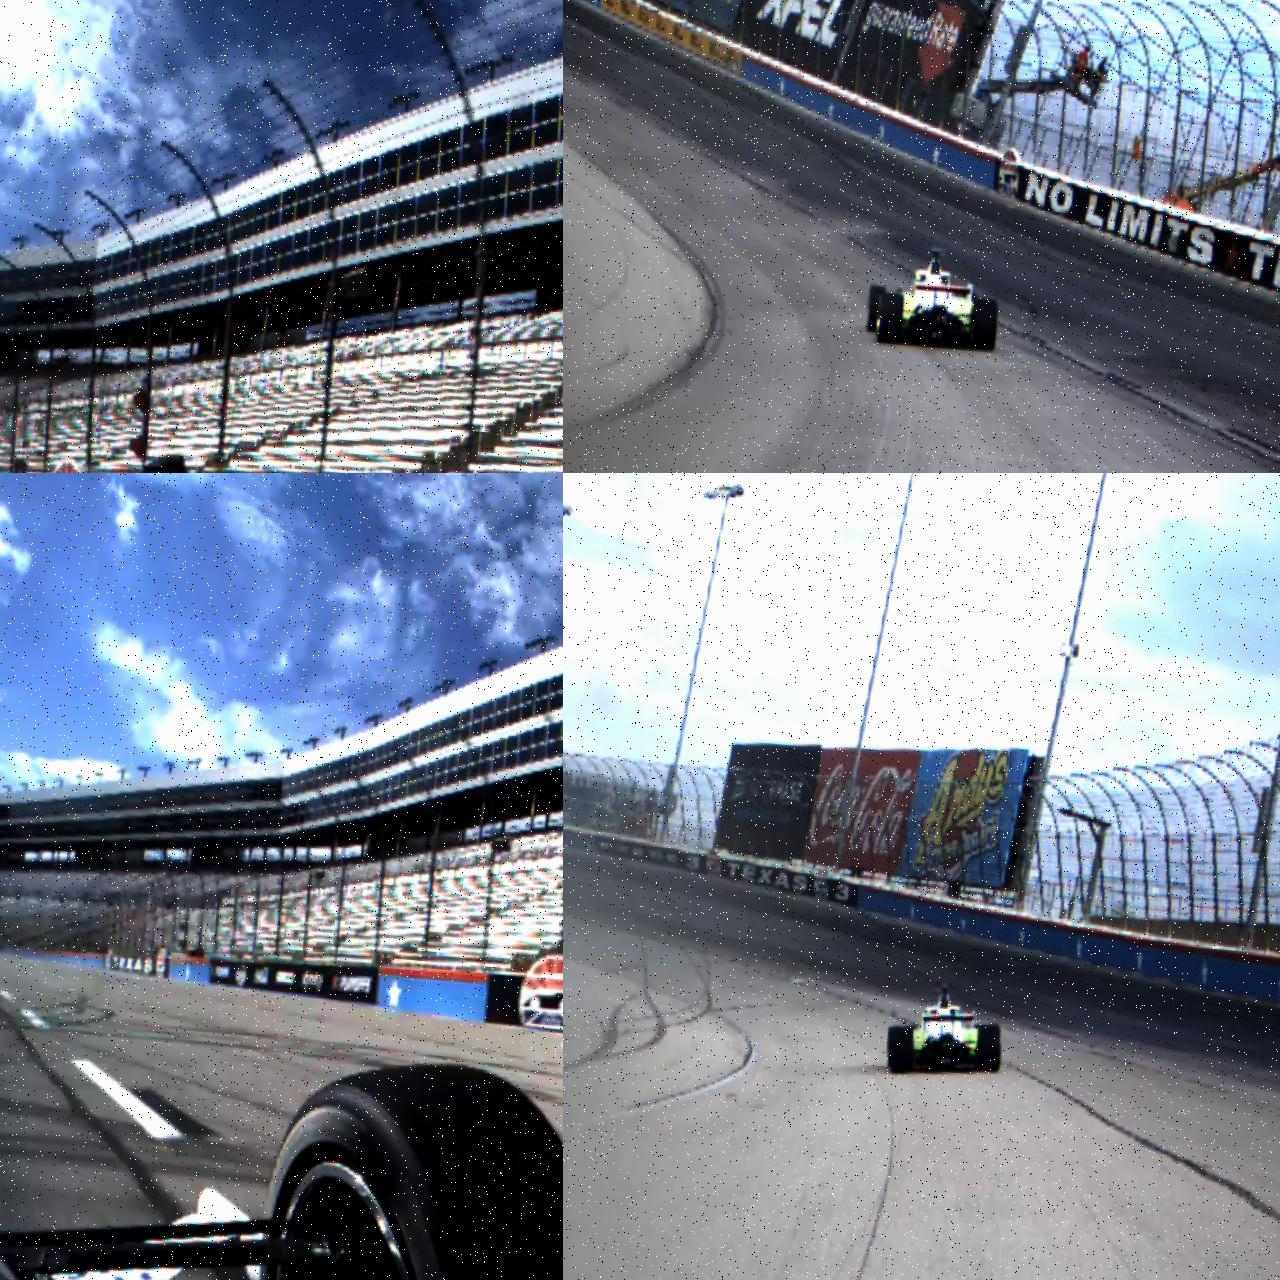AV: (865, 239, 1003, 354), (885, 980, 1006, 1083)
Wheel: (230, 1046, 563, 1280), (876, 293, 905, 346), (971, 299, 1000, 352), (974, 1023, 1003, 1074), (886, 1026, 915, 1075), (866, 285, 888, 334)
